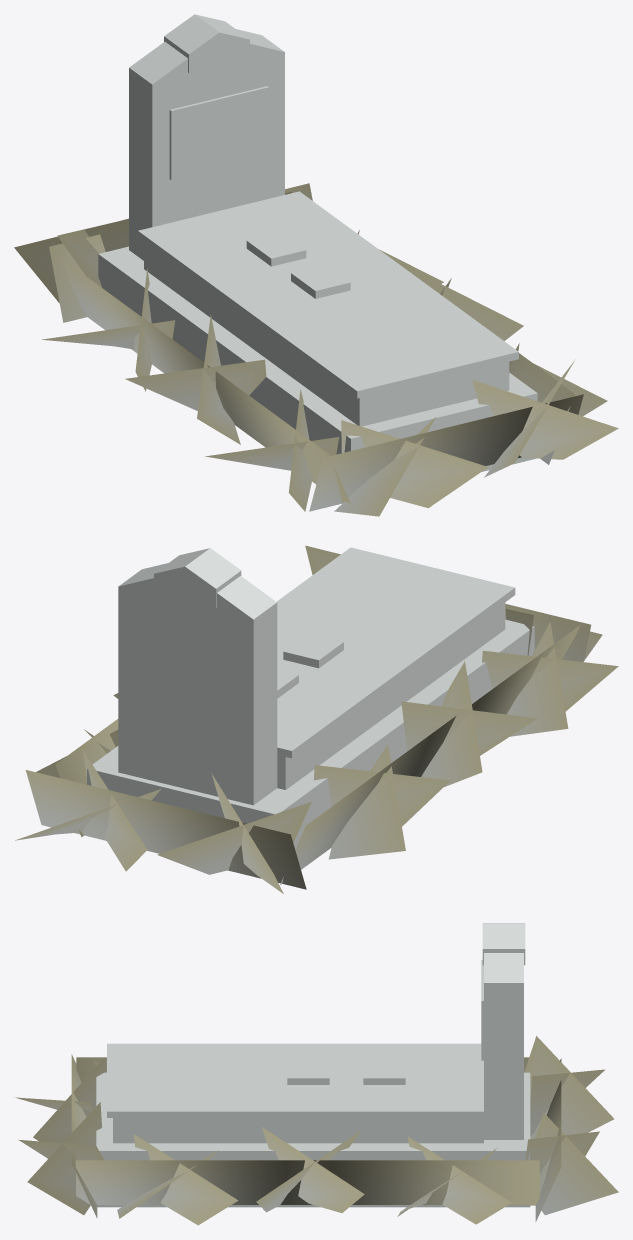
The picture shows the model from 3 angles, top to bottom: view 1: azimuth 30°, elevation 25°; view 2: azimuth 150°, elevation 25°; view 3: azimuth 270°, elevation 25°; orthographic projection. The views are drawn at different scales.
Parts seen in each view (by area): view 1: G:\FFXIV-MapTools\exports\n4f3\bg\ex3\01_nvt_n4\fld\n4f3\bgp (×2); view 2: G:\FFXIV-MapTools\exports\n4f3\bg\ex3\01_nvt_n4\fld\n4f3\bgp (×2); view 3: G:\FFXIV-MapTools\exports\n4f3\bg\ex3\01_nvt_n4\fld\n4f3\bgp (×2).
Part boxes in pixels (left/top/right/bottom): G:\FFXIV-MapTools\exports\n4f3\bg\ex3\01_nvt_n4\fld\n4f3\bgp (×2): left=14, top=14, right=618, bottom=516; G:\FFXIV-MapTools\exports\n4f3\bg\ex3\01_nvt_n4\fld\n4f3\bgp (×2): left=15, top=545, right=618, bottom=893; G:\FFXIV-MapTools\exports\n4f3\bg\ex3\01_nvt_n4\fld\n4f3\bgp (×2): left=14, top=923, right=618, bottom=1225.
Bounding box in the file's own units: 1.94 × 1.49 × 3.26.
